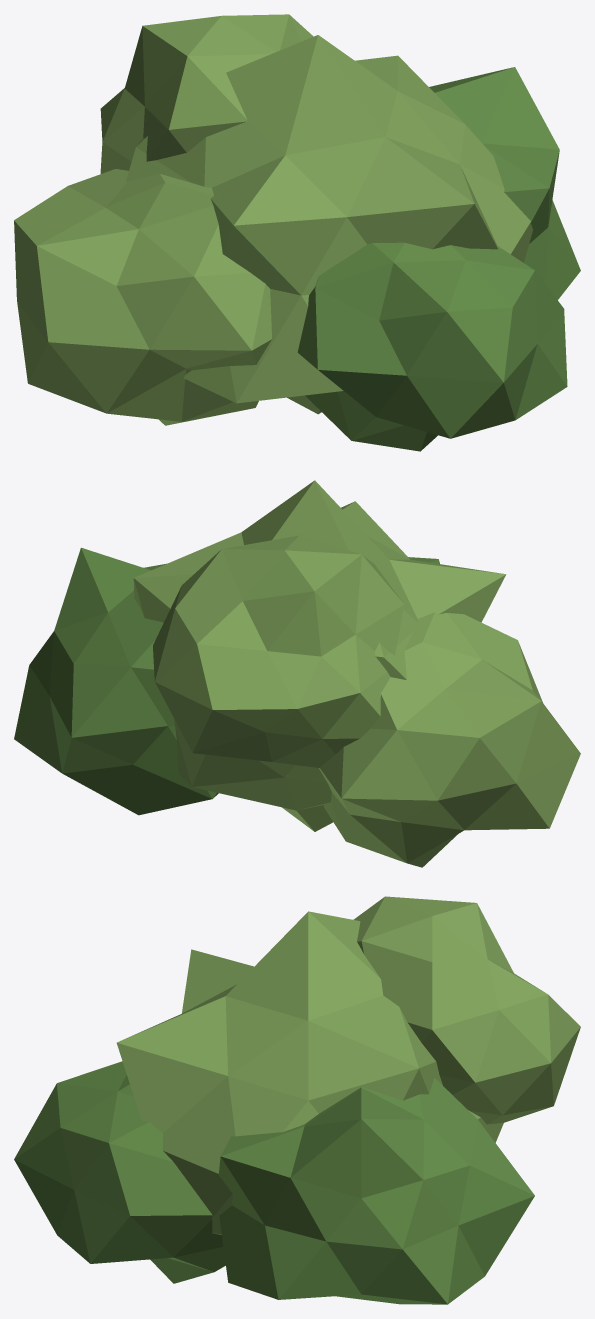
The model's file is bush.glb.
3 renders of one model, top to bottom at view 1: azimuth 30°, elevation 25°; view 2: azimuth 150°, elevation 25°; view 3: azimuth 270°, elevation 25°, orthographic. The views are drawn at different scales.
Visible parts, largest first — view 1: leaf0, leaf2, leaf3, leaf4, leaf1; view 2: leaf4, leaf2, leaf1, leaf0; view 3: leaf1, leaf0, leaf4, leaf3.
Boxes of the visible parts, left/top/right/bottom form: leaf0: left=126, top=35, right=532, bottom=414; leaf2: left=14, top=169, right=271, bottom=425; leaf3: left=297, top=242, right=567, bottom=451; leaf4: left=100, top=14, right=313, bottom=173; leaf1: left=429, top=67, right=580, bottom=299; leaf4: left=153, top=535, right=404, bottom=767; leaf2: left=319, top=612, right=580, bottom=867; leaf1: left=14, top=547, right=218, bottom=815; leaf0: left=133, top=480, right=506, bottom=831; leaf1: left=218, top=1078, right=534, bottom=1304; leaf0: left=116, top=911, right=503, bottom=1234; leaf4: left=353, top=896, right=580, bottom=1124; leaf3: left=14, top=1061, right=225, bottom=1283.
Bounding box in the file's own units: 1.68 × 1.13 × 1.6.
